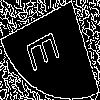E: (25, 24, 69, 75)
